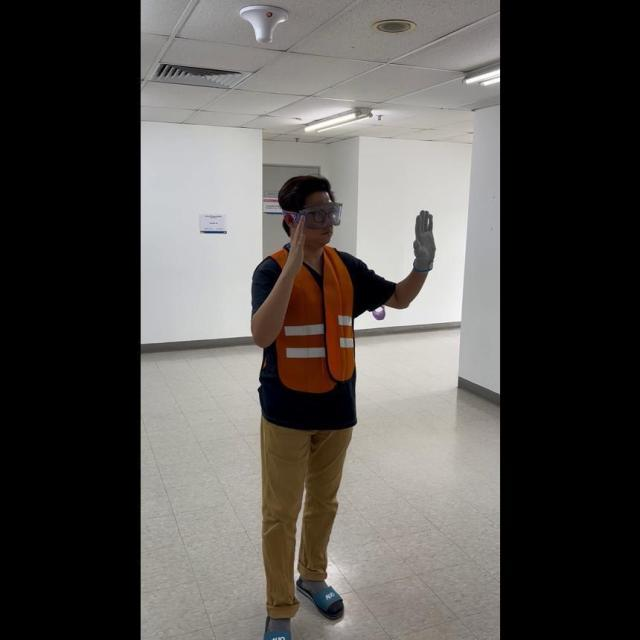bare_hand: (278, 211, 305, 268)
gloved_hand: (408, 207, 437, 272)
